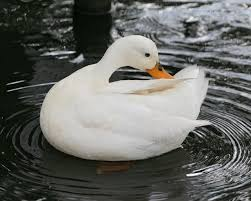Not_a_Chicken: (37, 34, 221, 162)
